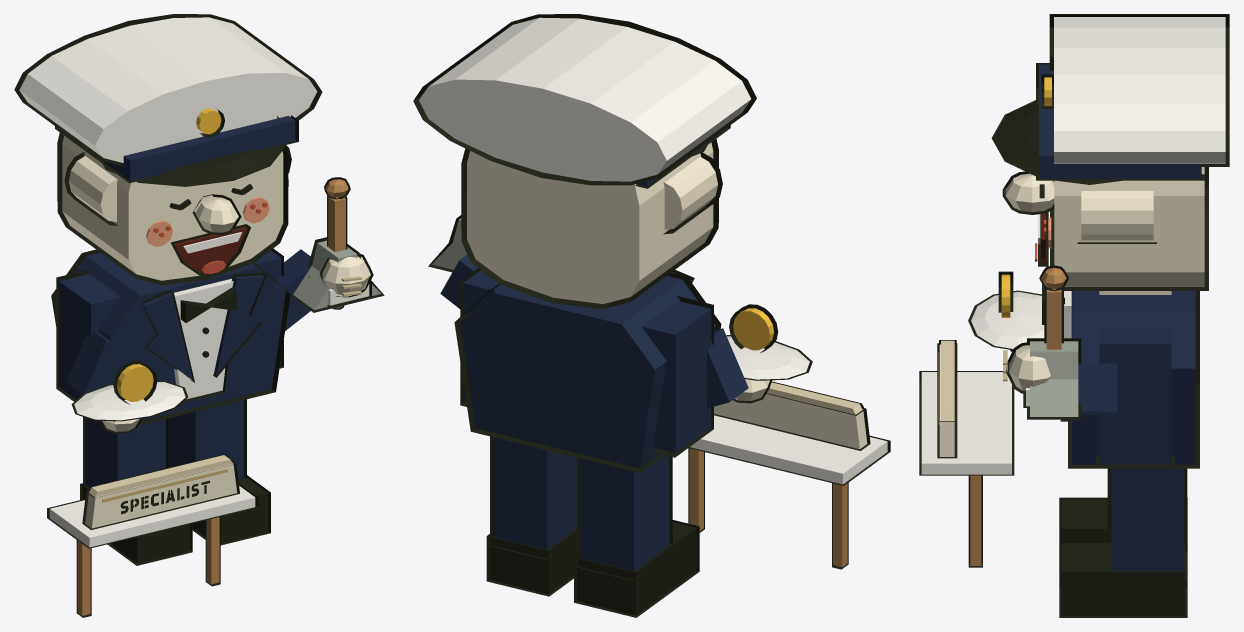
3 renders of one model, left to right at view 1: azimuth 30°, elevation 25°; view 2: azimuth 150°, elevation 25°; view 3: azimuth 270°, elevation 25°, orthographic. The views are drawn at different scales.
Parts seen in each view (by area): view 1: Link Marine; view 2: Link Marine; view 3: Link Marine.
Part boxes in pixels (box(x1,y1,x2,y2)): Link Marine: box(14, 14, 384, 617); Link Marine: box(413, 14, 890, 617); Link Marine: box(919, 14, 1229, 617).
Size of the model in its own units: 0.7462 by 0.9836 by 0.5155.
